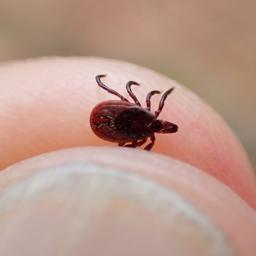Ixodes scapularis: (91, 75, 179, 158)
